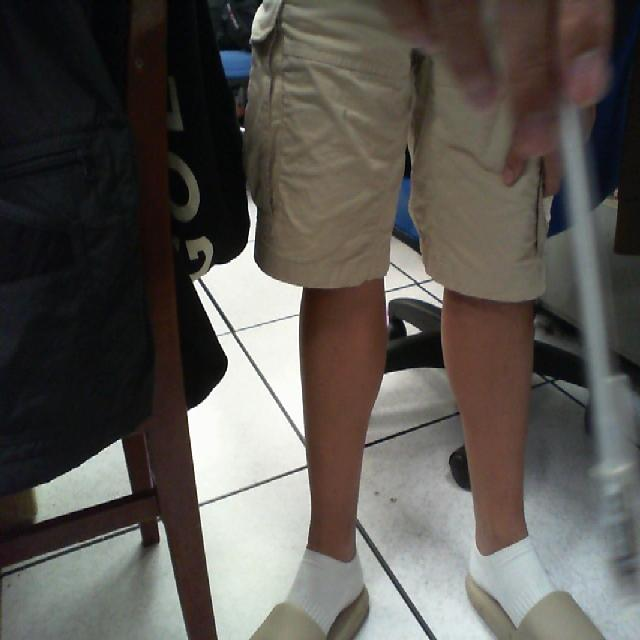Pen: (558, 52, 640, 615)
